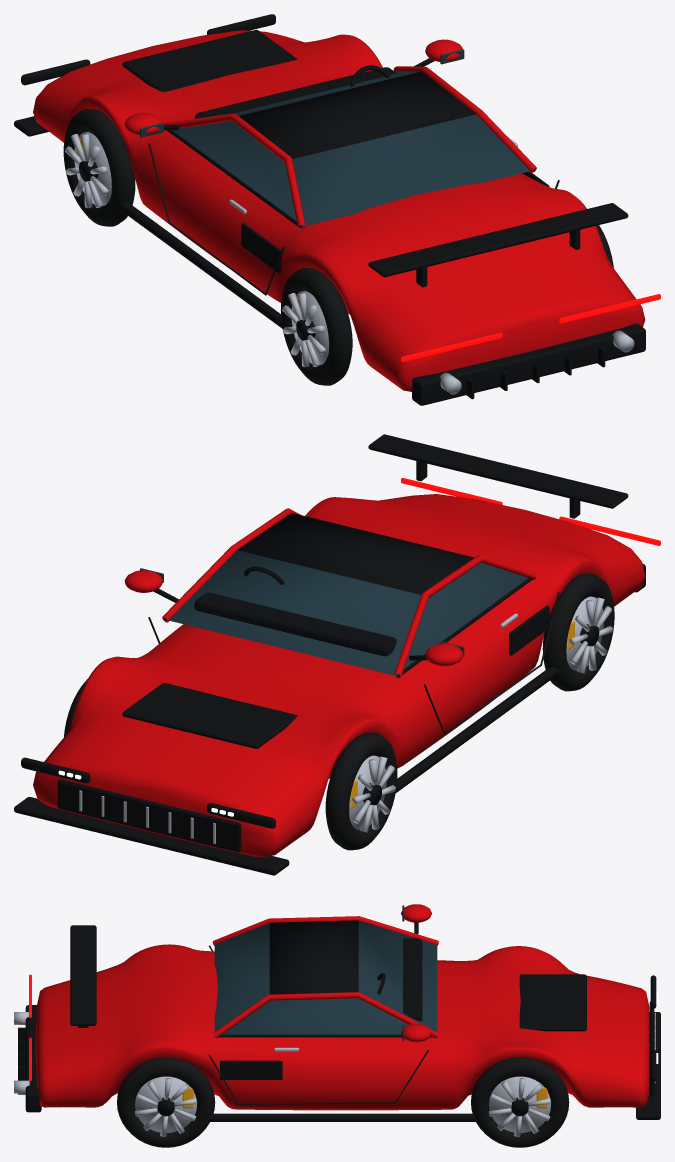
The model's file is deccan-supercar.glb.
The picture shows the model from 3 angles, top to bottom: view 1: azimuth 30°, elevation 25°; view 2: azimuth 150°, elevation 25°; view 3: azimuth 270°, elevation 25°; orthographic projection. The views are drawn at different scales.
Parts seen in each view (by area): view 1: Surface_Paint, Surface_Carbon, Surface_Glazing, Tire, Tire.001, Rim_lip.001, Rim_lip, Surface_Tailights, Surface_Alloy, Surface_Panel_seams; view 2: Surface_Paint, Surface_Carbon, Surface_Glazing, Tire.001, Tire, Rim_lip.001, Rim_lip, Surface_Tailights, Surface_Panel_seams, Surface_Alloy; view 3: Surface_Paint, Surface_Carbon, Surface_Glazing, Tire.002, Tire.003, Rim_lip.002, Rim_lip.003, Surface_Panel_seams, Surface_Alloy.
Boxes of the visible parts, box(x1,y1,x2,y2) form: Surface_Paint: box(33, 30, 645, 391); Surface_Carbon: box(14, 14, 645, 405); Surface_Glazing: box(140, 49, 533, 226); Tire: box(280, 268, 352, 385); Tire.001: box(63, 109, 135, 226); Rim_lip.001: box(65, 132, 111, 208); Rim_lip: box(282, 291, 328, 367); Surface_Tailights: box(401, 294, 660, 361); Surface_Alloy: box(229, 137, 634, 394); Surface_Panel_seams: box(148, 143, 559, 295); Surface_Paint: box(33, 494, 645, 857); Surface_Carbon: box(14, 434, 645, 875); Surface_Glazing: box(140, 550, 528, 676); Tire.001: box(325, 732, 397, 850); Tire: box(542, 573, 614, 691); Rim_lip.001: box(349, 755, 395, 832); Rim_lip: box(566, 596, 612, 673); Surface_Tailights: box(401, 478, 660, 545); Surface_Panel_seams: box(148, 592, 559, 734); Surface_Alloy: box(79, 613, 517, 843); Surface_Paint: box(35, 904, 649, 1110); Surface_Carbon: box(18, 920, 660, 1121); Surface_Glazing: box(214, 905, 437, 1040); Tire.002: box(117, 1057, 215, 1147); Tire.003: box(471, 1057, 569, 1147); Rim_lip.002: box(135, 1076, 197, 1137); Rim_lip.003: box(489, 1076, 551, 1137); Surface_Panel_seams: box(208, 945, 428, 1104); Surface_Alloy: box(14, 1012, 655, 1093).
Bounding box in the file's own units: 2.4 × 1.2 × 4.93.
